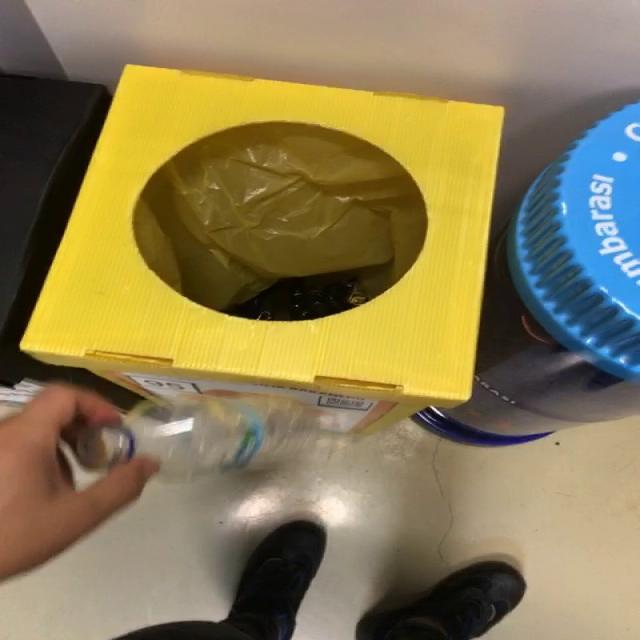plastic: (65, 396, 317, 482)
